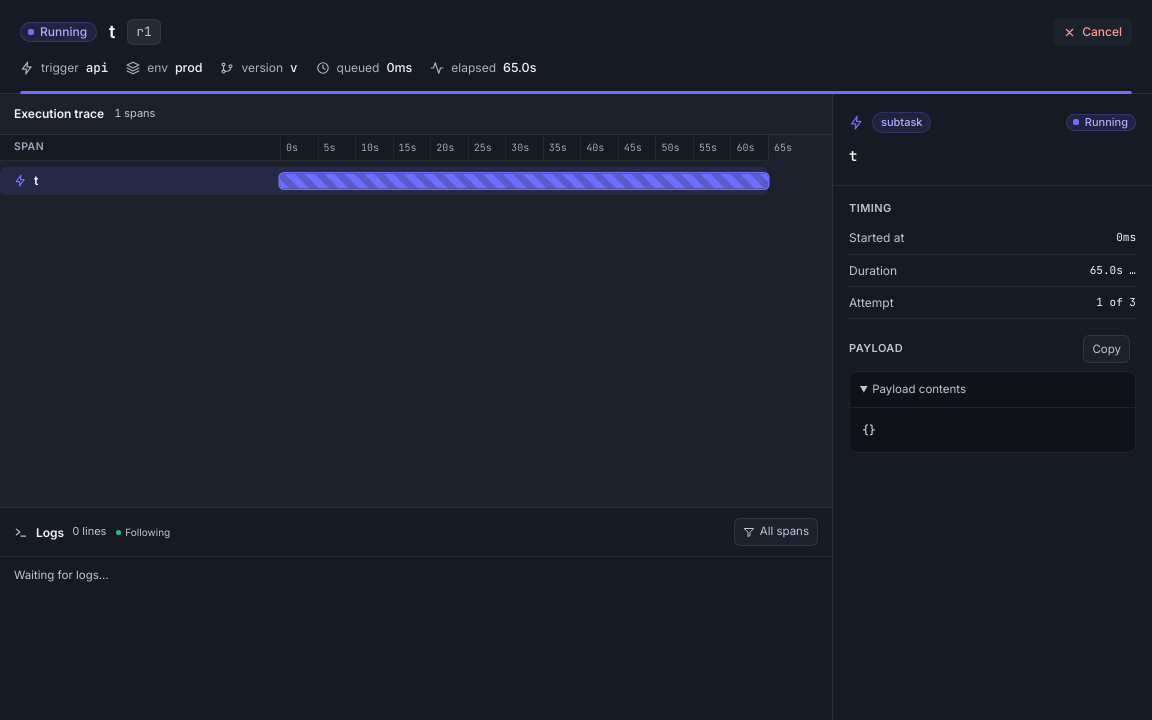
it: RunHeader cancel › surfaces a failing cancel and does not stick (optimistic rollback)
The width and height of the screenshot is (1152, 720).
Click the button "Cancel" at (1093, 32), box [1053,18,1132,46]
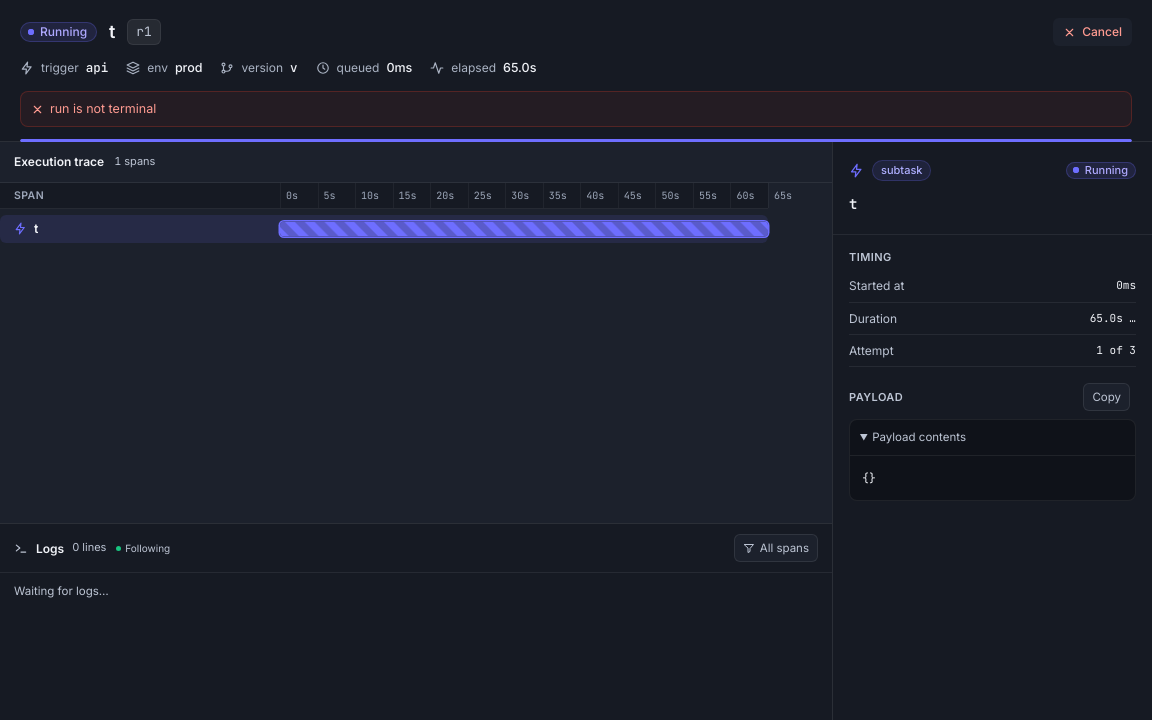
Expected: the message "run is not terminal" is shown, [20,91,1132,127]
Expected: the text "run is not terminal" is shown, [50,100,156,118]
